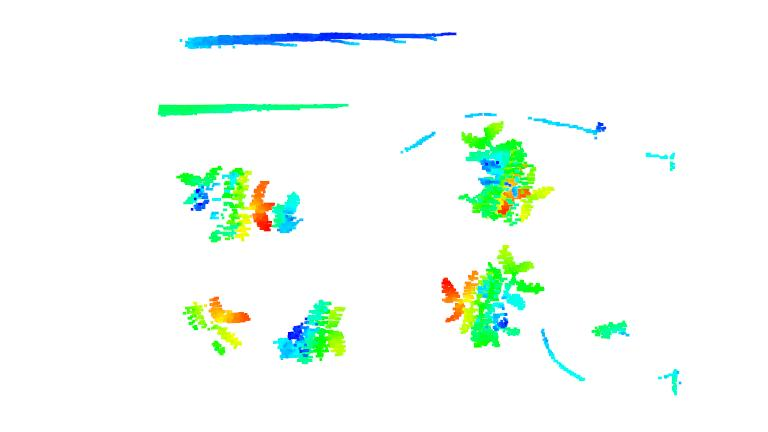chickpea: (176, 159, 305, 243), (444, 245, 547, 348), (456, 123, 556, 224), (273, 299, 348, 365), (181, 294, 253, 355)
